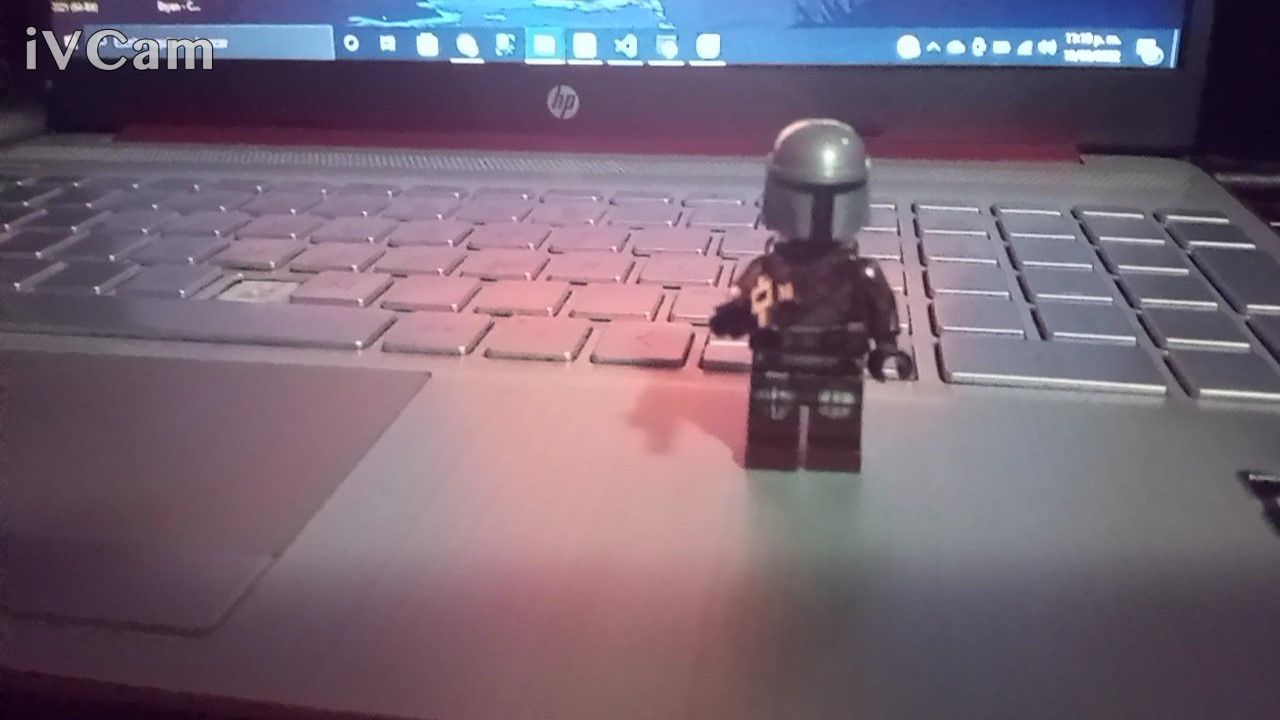mandalorian: (700, 102, 923, 491)
